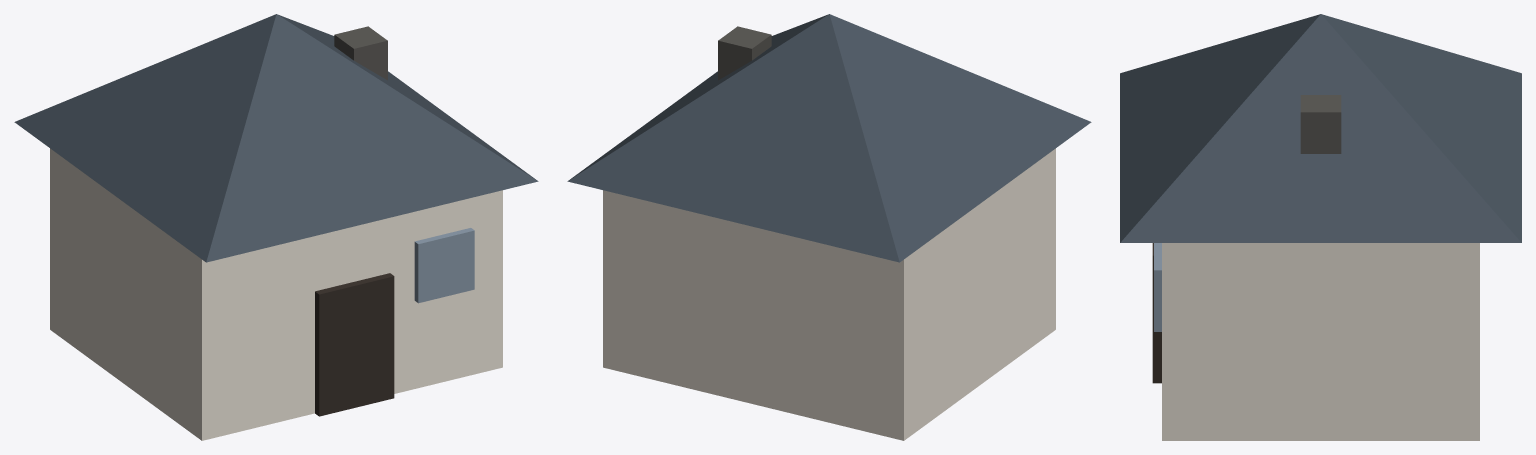
Rendered from house.glb.
3 views of the same model, side by side, from view 1: azimuth 30°, elevation 25°; view 2: azimuth 150°, elevation 25°; view 3: azimuth 270°, elevation 25° (orthographic). The views are drawn at different scales.
Visible parts, largest first — view 1: n3, n1, n5, n6, n7; view 2: n1, n3, n7; view 3: n3, n1, n7, n6, n5.
Part boxes in pixels (<box>): n3: <box>14,14,538,262</box>; n1: <box>50,148,502,440</box>; n5: <box>315,273,394,416</box>; n6: <box>414,228,474,303</box>; n7: <box>334,26,387,80</box>; n1: <box>603,148,1055,440</box>; n3: <box>567,14,1091,262</box>; n7: <box>718,26,771,80</box>; n3: <box>1120,14,1521,242</box>; n1: <box>1162,243,1479,440</box>; n7: <box>1300,95,1341,153</box>; n6: <box>1154,243,1161,331</box>; n5: <box>1152,243,1161,383</box>.
Bounding box in the file's own units: 4.24 × 4.08 × 4.24.
